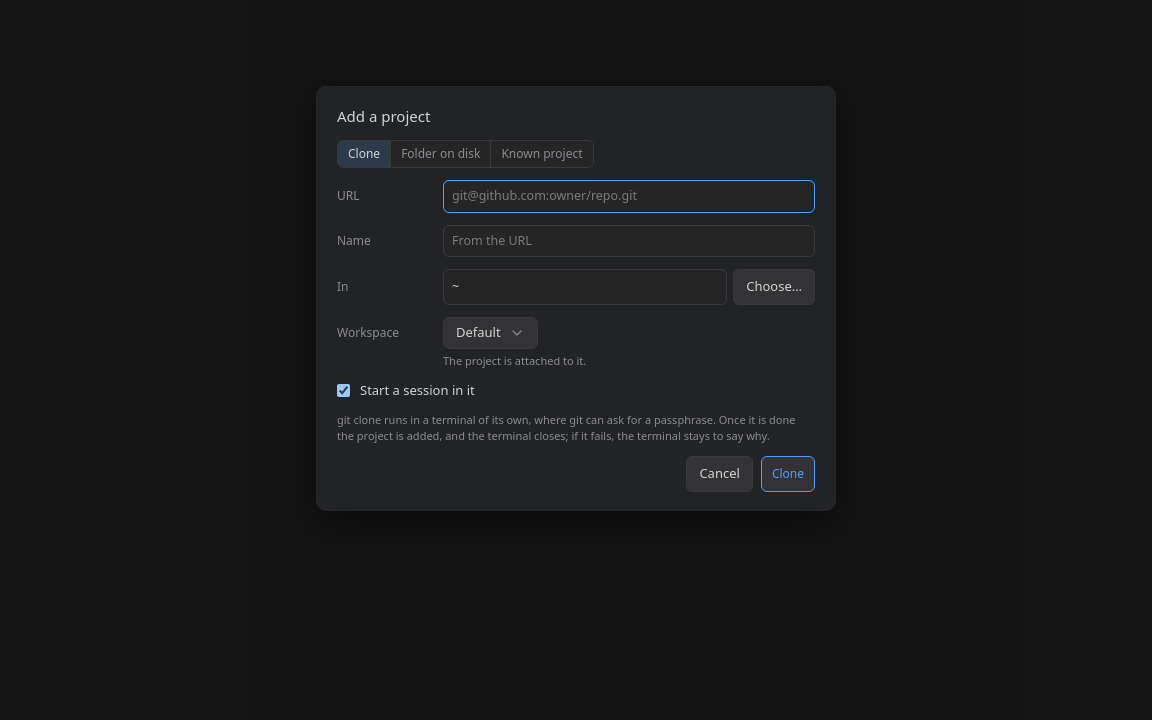
Test: AddProjectDialog › refuses a quote, which could not be passed to the shell as one word
Type "https://example.com/it's.git" into the field with placeholder "git@github.com:owner/repo.git" at (629, 196), box [443,180,815,213]
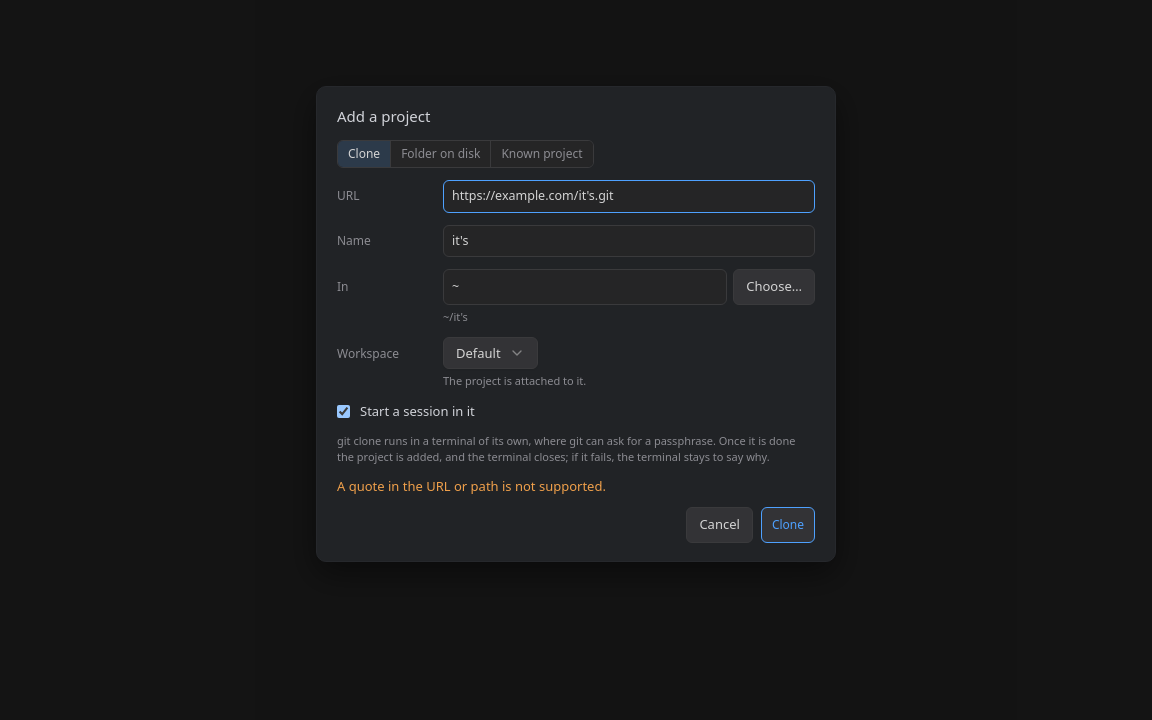
expect the button "Clone" is disabled: met, box [761,508,815,543]
expect the text "A quote in the URL or path is not supported." is shown: met, box [337,477,606,495]
